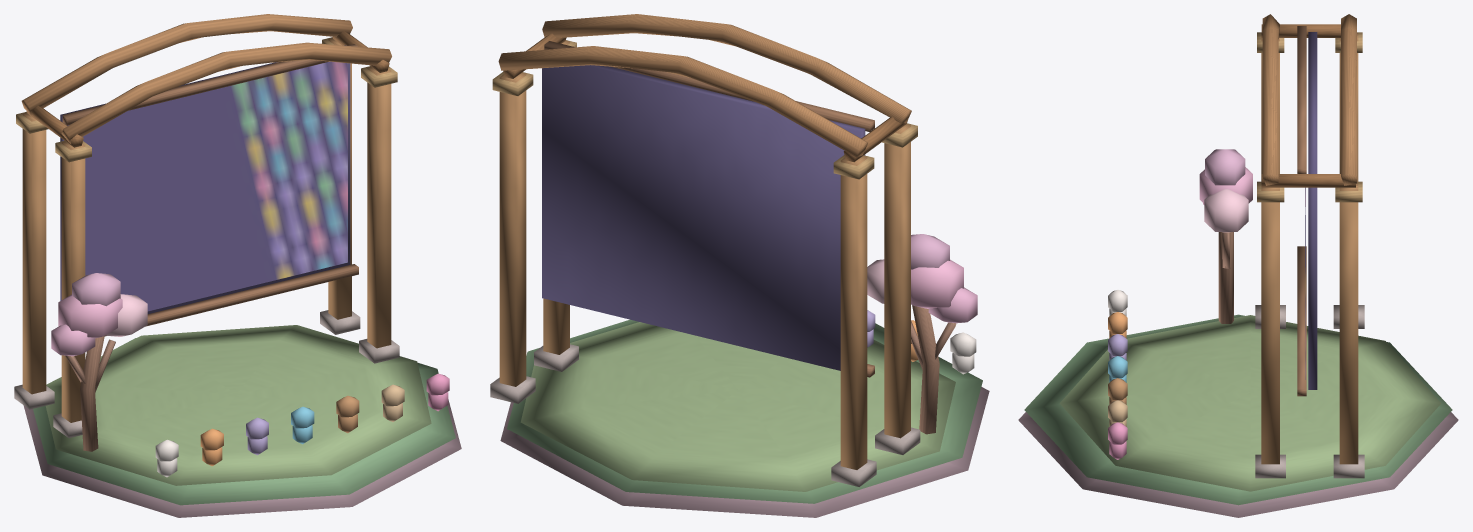
3 renders of one model, left to right at view 1: azimuth 30°, elevation 25°; view 2: azimuth 150°, elevation 25°; view 3: azimuth 270°, elevation 25°, orthographic. The views are drawn at different scales.
Parts seen in each view (by area): view 1: Everything; view 2: Everything; view 3: Everything.
Part boxes in pixels (x1,y1,x2,y2): Everything: (14,14,461,517); Everything: (490,14,989,517); Everything: (1018,14,1458,517).
Bounding box in the file's own units: 11.52 × 10.33 × 10.96.
1 material, 1 textured.
